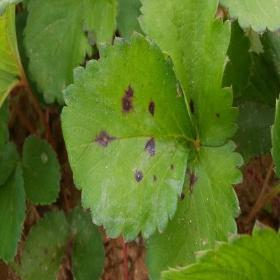Leaf Spot: (61, 30, 195, 244), (136, 0, 240, 148), (143, 140, 245, 279), (19, 209, 71, 279)
